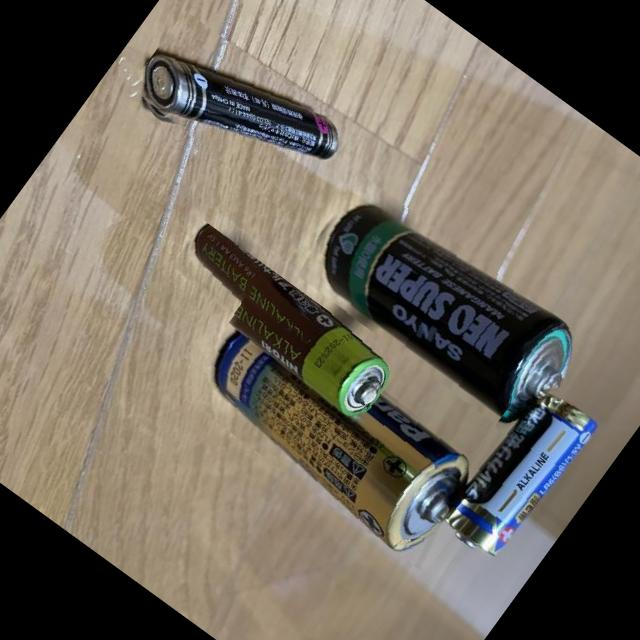Hazard: (173, 287, 500, 573), (283, 170, 596, 446), (157, 219, 401, 425), (121, 9, 352, 216), (426, 365, 604, 566)
